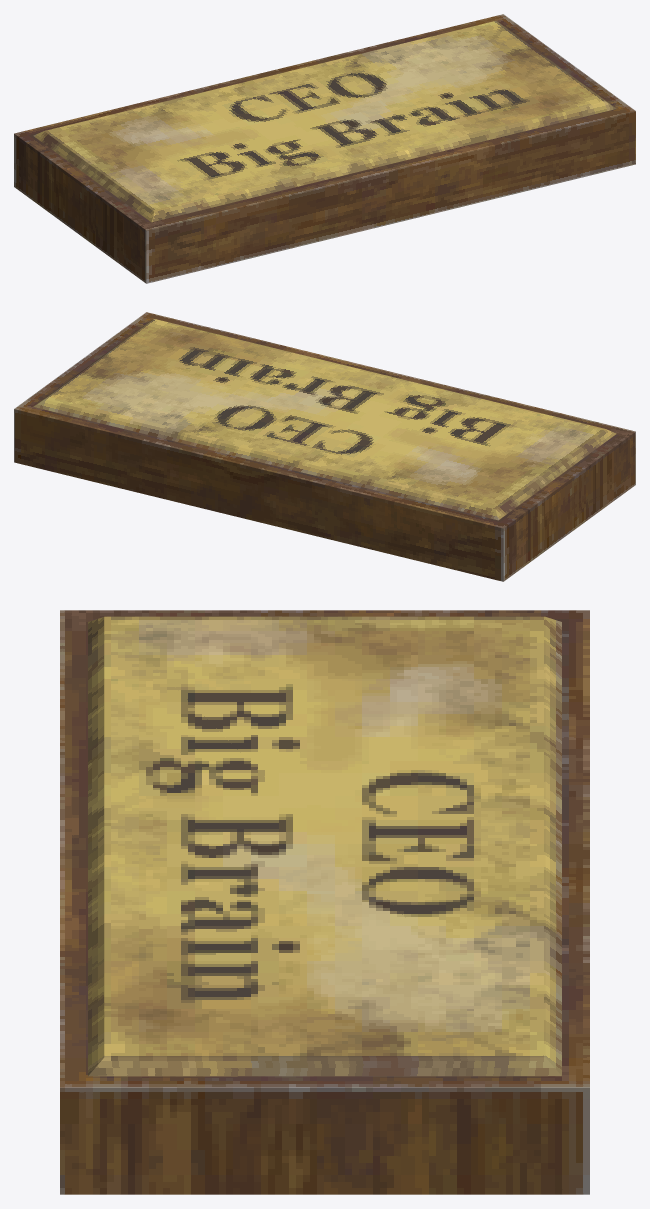
Rendered from item_ceo_plaque.glb.
3 renders of one model, top to bottom at view 1: azimuth 30°, elevation 25°; view 2: azimuth 150°, elevation 25°; view 3: azimuth 270°, elevation 25°, orthographic. The views are drawn at different scales.
Visible parts, largest first — view 1: CEO_Plaque; view 2: CEO_Plaque; view 3: CEO_Plaque.
Part boxes in pixels (x1,y1,x2,y2): CEO_Plaque: (14, 14, 635, 283); CEO_Plaque: (14, 312, 635, 581); CEO_Plaque: (60, 610, 589, 1194).
Size of the model in its own units: 0.9923 by 0.115 by 0.4651.
Materials: 1 (1 with a texture image).
